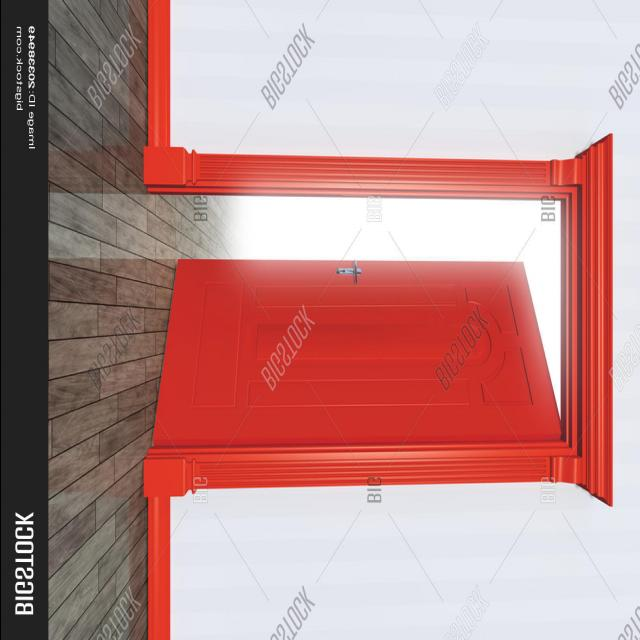open: (140, 165, 574, 474)
